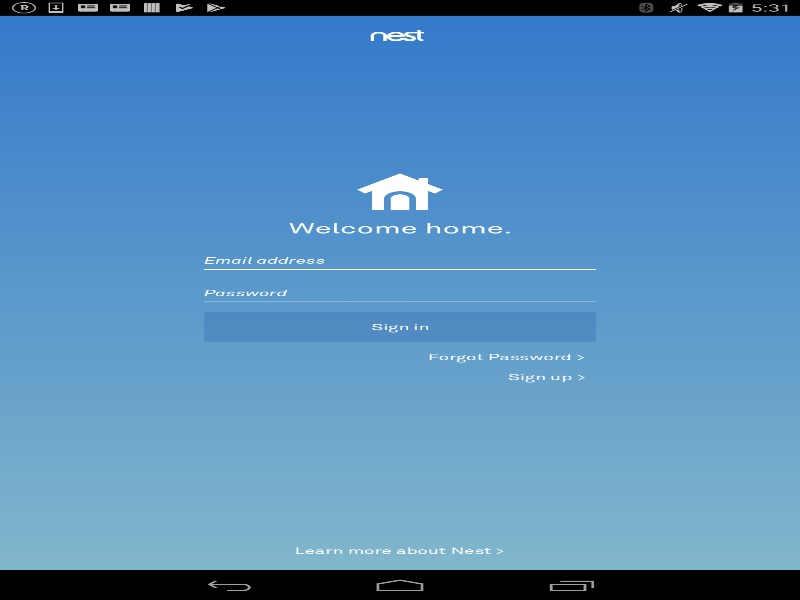Button: (204, 312, 596, 342), (284, 540, 515, 561), (417, 347, 596, 367), (497, 367, 596, 387)
Input: (204, 239, 596, 269), (204, 272, 596, 302)
